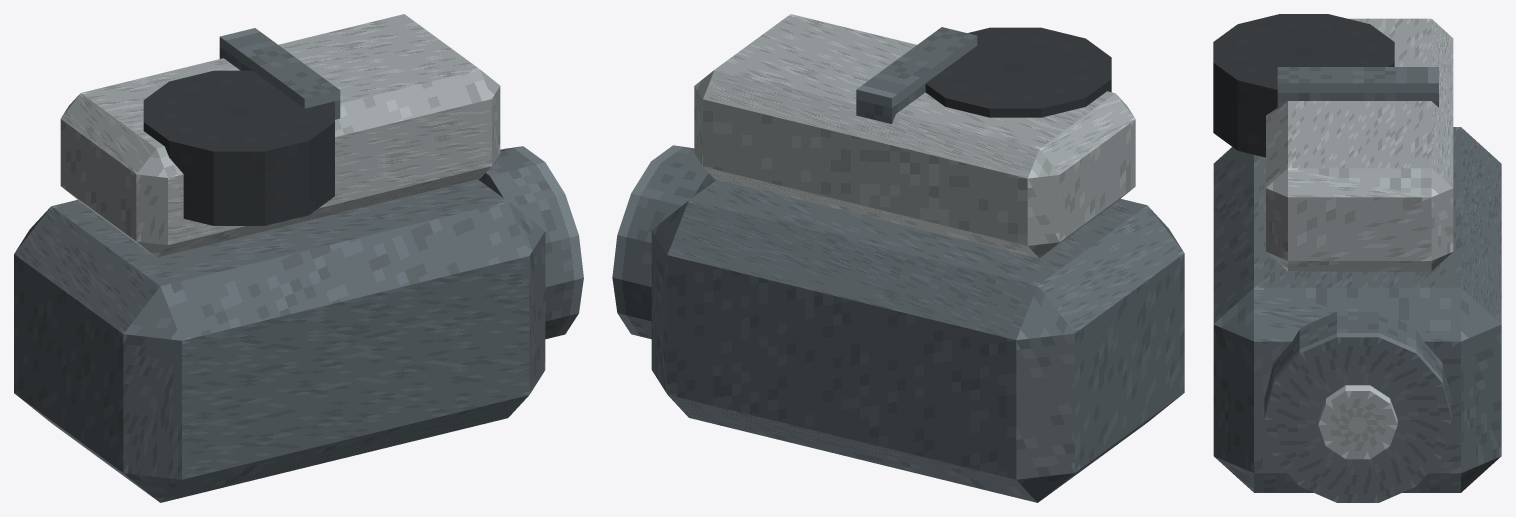
Rendered from 1cyl_combustion.glb.
3 views of the same model, side by side, from view 1: azimuth 30°, elevation 25°; view 2: azimuth 150°, elevation 25°; view 3: azimuth 270°, elevation 25° (orthographic). The views are drawn at different scales.
Parts seen in each view (by area): view 1: block_ribbed cast engine housing, block_valve cover, block_single-cylinder air intake, block_crank pulley, block_cast cover rib; view 2: block_ribbed cast engine housing, block_valve cover, block_single-cylinder air intake, block_crank pulley, block_cast cover rib; view 3: block_ribbed cast engine housing, block_valve cover, block_crank pulley, block_single-cylinder air intake, block_cast cover rib, block_pulley hub.
Part boxes in pixels (box(x1,y1,x2,y2)): block_ribbed cast engine housing: box(14, 179, 545, 502); block_valve cover: box(60, 14, 500, 257); block_single-cylinder air intake: box(143, 70, 334, 225); block_crank pulley: box(478, 146, 583, 339); block_cast cover rib: box(219, 28, 340, 119); block_ribbed cast engine housing: box(651, 180, 1184, 502); block_valve cover: box(694, 14, 1135, 258); block_single-cylinder air intake: box(925, 27, 1111, 117); block_crank pulley: box(612, 145, 716, 339); block_cast cover rib: box(856, 27, 977, 123); block_ribbed cast engine housing: box(1213, 127, 1501, 492); block_valve cover: box(1266, 18, 1453, 271); block_crank pulley: box(1264, 311, 1451, 502); block_single-cylinder air intake: box(1213, 14, 1394, 157); block_cast cover rib: box(1277, 67, 1438, 109); block_pulley hub: box(1318, 385, 1397, 459).
Size of the model in its own units: 0.4373 by 0.3115 by 0.241.
Materials: 1 (1 with a texture image).
